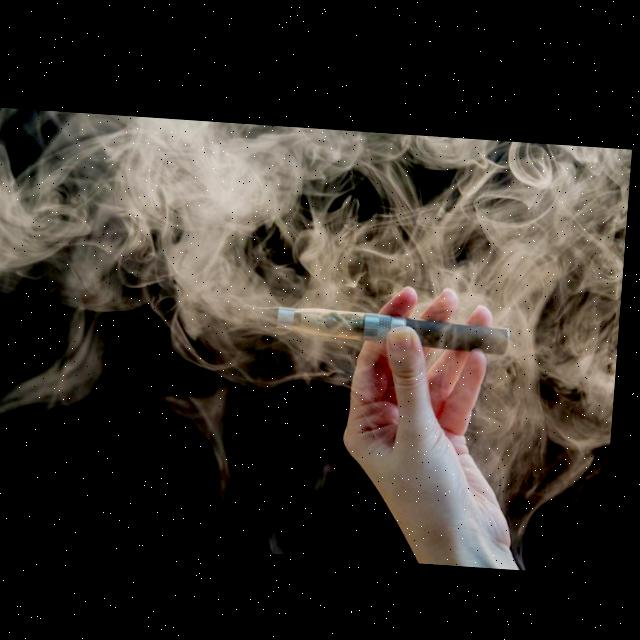vape: (245, 297, 514, 351)
